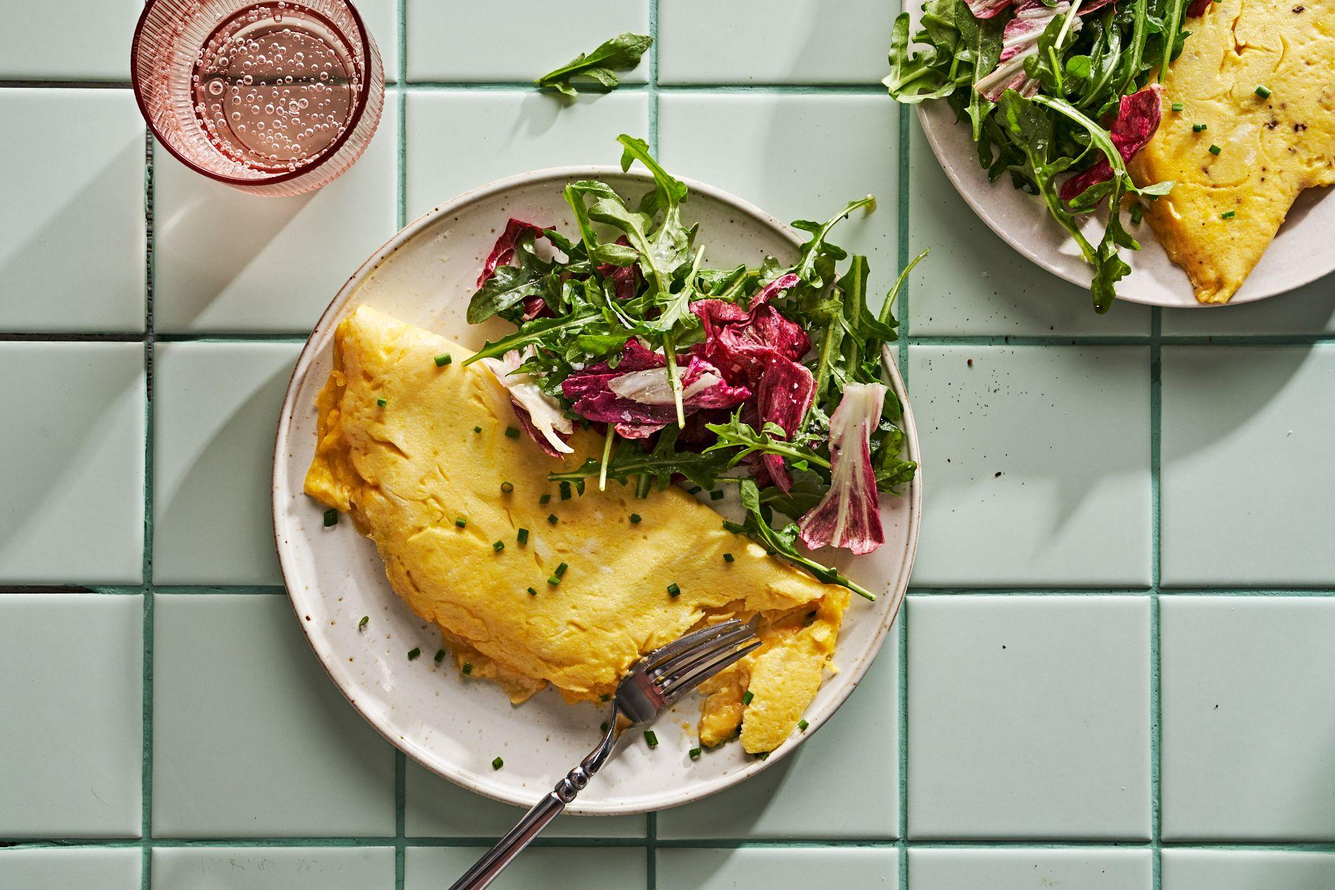omelette: (342, 393, 715, 730), (1191, 20, 1335, 287)
salad: (481, 183, 877, 510), (935, 0, 1141, 223)
